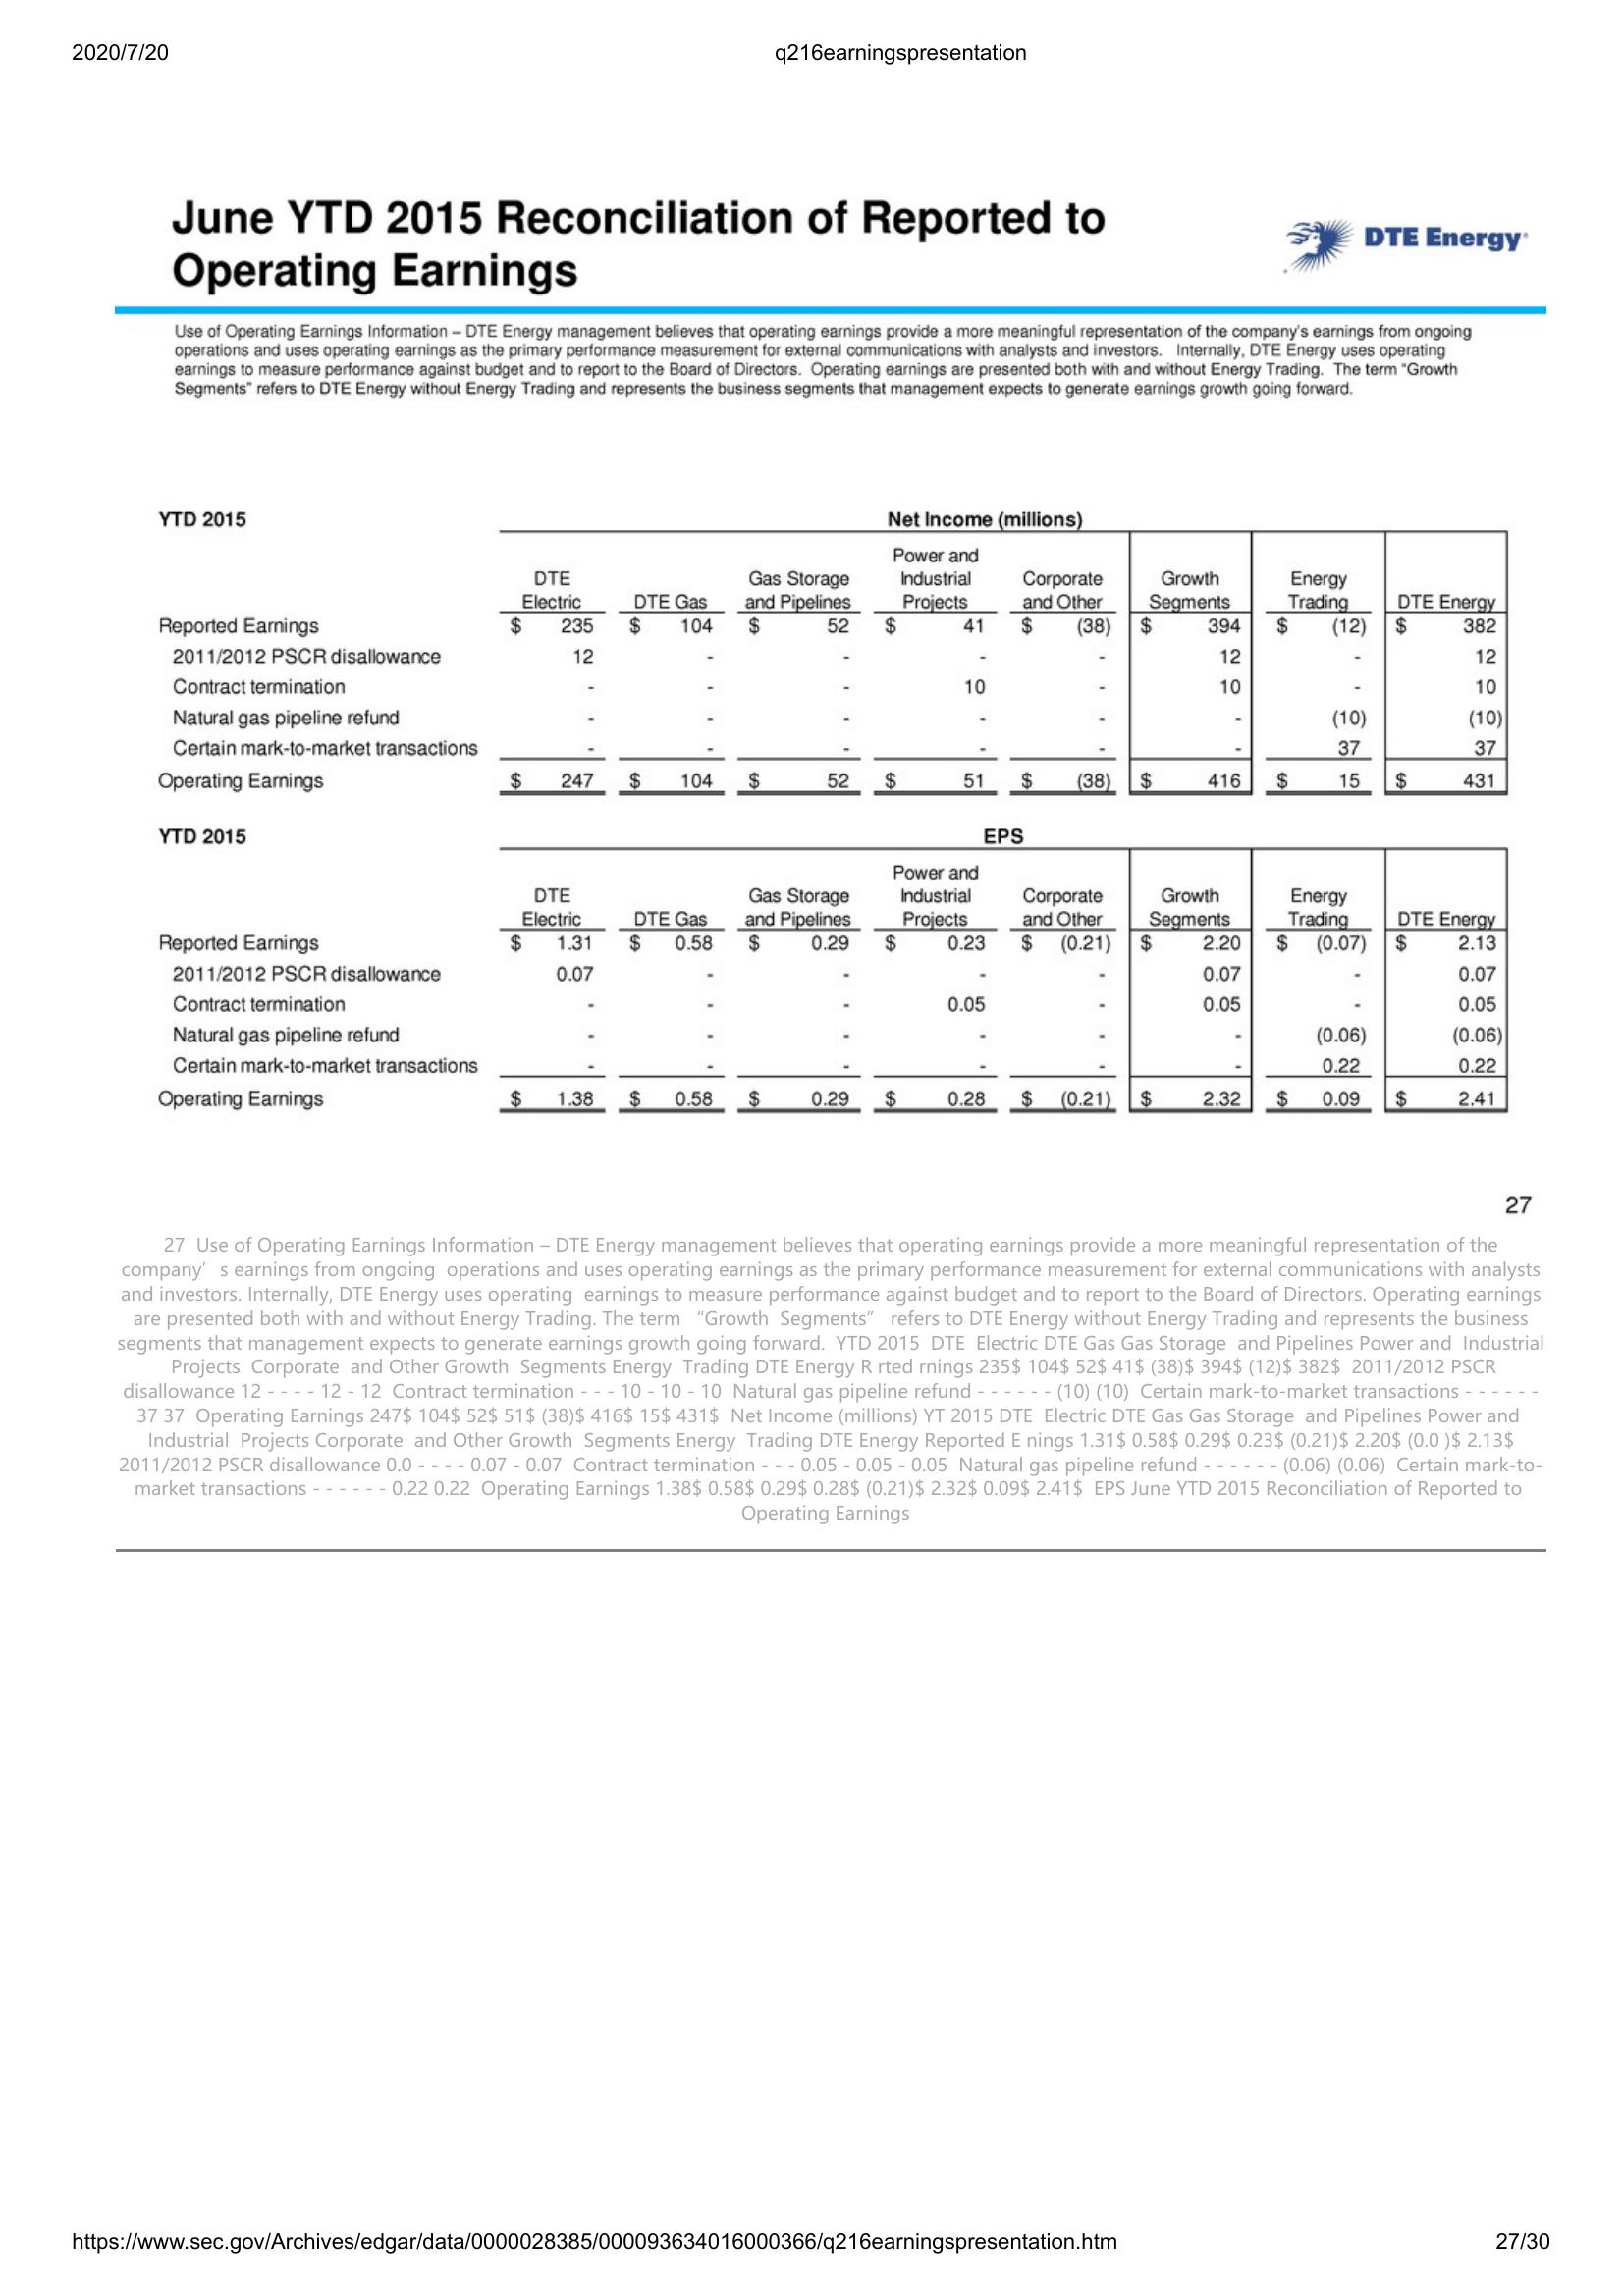table: (144, 816, 1519, 1123), (139, 495, 1519, 800)
